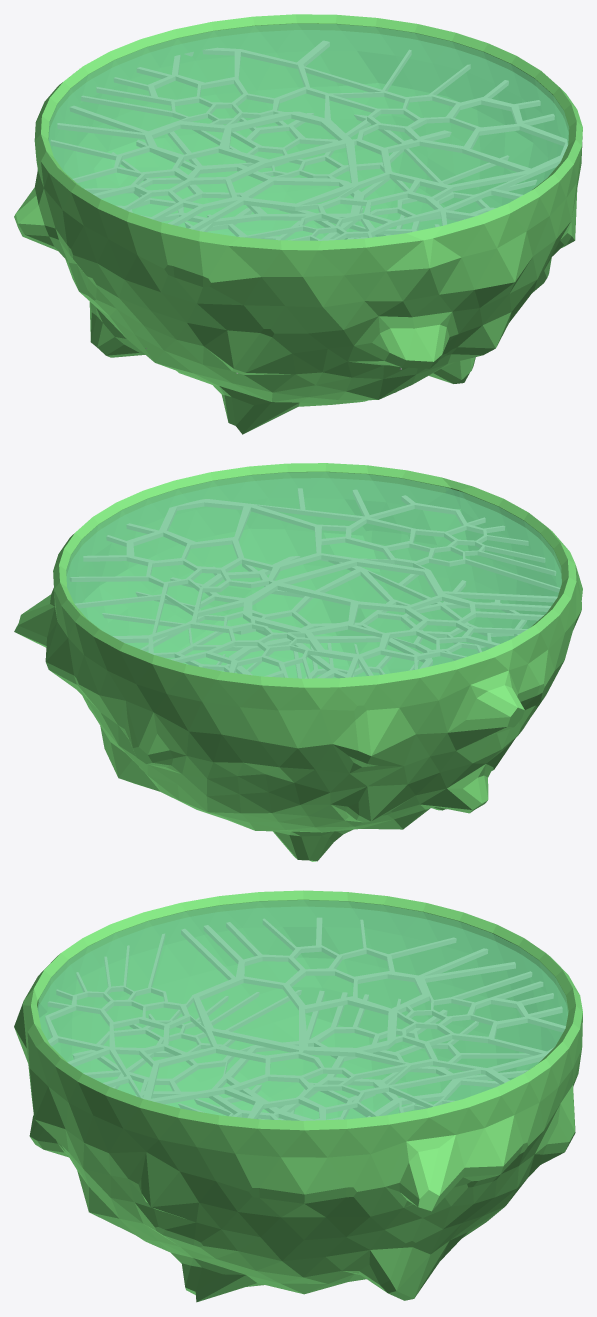
File: WorldCellLowerPoly.fbx
The picture shows the model from 3 angles, top to bottom: view 1: azimuth 30°, elevation 25°; view 2: azimuth 150°, elevation 25°; view 3: azimuth 270°, elevation 25°; orthographic projection. The views are drawn at different scales.
Parts seen in each view (by area): view 1: Icosphere, Top, Hexa, Hexa.001, Hexa.002; view 2: Icosphere, Top, Hexa, Hexa.001, Hexa.002; view 3: Icosphere, Top, Hexa, Hexa.001, Hexa.002.
Part boxes in pixels (<box>): Icosphere: <box>14,14,582,434</box>; Top: <box>48,23,569,240</box>; Hexa: <box>51,41,567,240</box>; Hexa.001: <box>85,113,536,239</box>; Hexa.002: <box>145,208,438,373</box>; Icosphere: <box>14,463,582,861</box>; Top: <box>66,472,561,678</box>; Hexa: <box>70,488,559,678</box>; Hexa.001: <box>102,556,526,677</box>; Hexa.002: <box>216,643,419,678</box>; Icosphere: <box>14,890,582,1302</box>; Top: <box>37,900,568,1120</box>; Hexa: <box>45,918,565,1120</box>; Hexa.001: <box>73,990,533,1120</box>; Hexa.002: <box>178,1083,374,1119</box>.
Size of the model in its own units: 2133 by 1120 by 2035.
